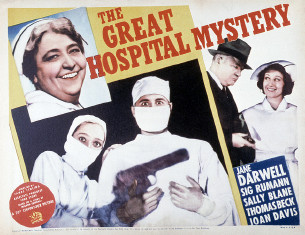face: (39, 31, 86, 95), (216, 55, 245, 85), (263, 70, 282, 97)
face_mask: (66, 124, 103, 167), (135, 87, 170, 132)
